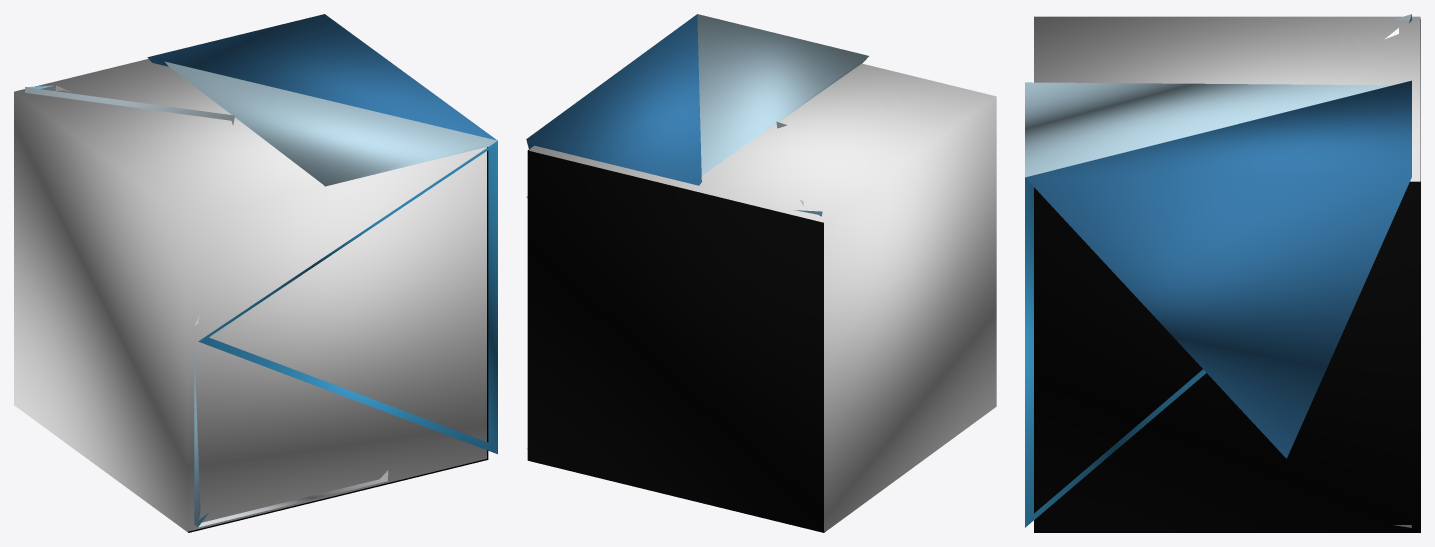
3 views of the same model, side by side, from view 1: azimuth 30°, elevation 25°; view 2: azimuth 150°, elevation 25°; view 3: azimuth 270°, elevation 25° (orthographic). The views are drawn at different scales.
Parts seen in each view (by area): view 1: Renderer Node; view 2: Renderer Node; view 3: Renderer Node.
Boxes of the visible parts, x1,y1,x2,y2 form: Renderer Node: (14, 14, 497, 532); Renderer Node: (526, 14, 996, 532); Renderer Node: (1025, 14, 1420, 532).
Size of the model in its own units: 1.11 by 1.11 by 1.11.
